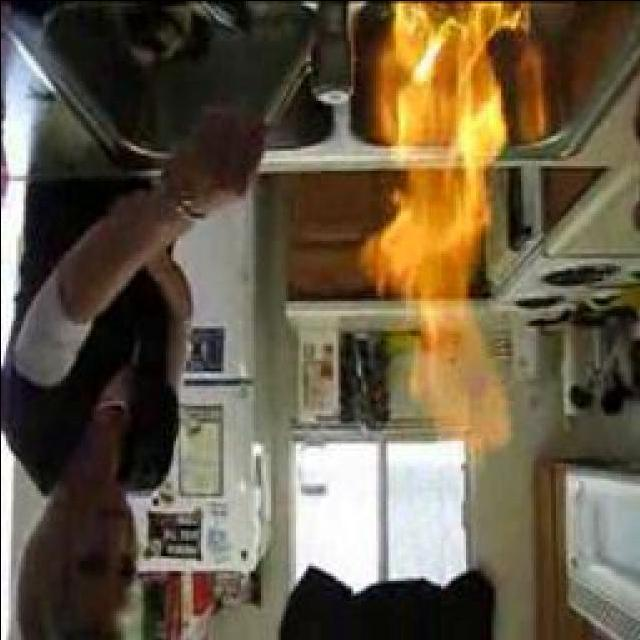Fire: (364, 0, 512, 453)
